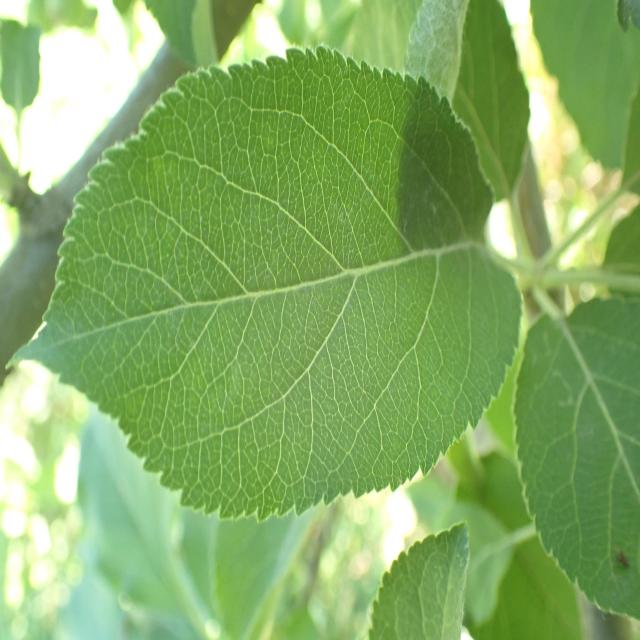healthy: (6, 41, 526, 525), (511, 294, 640, 621), (366, 519, 470, 640)
